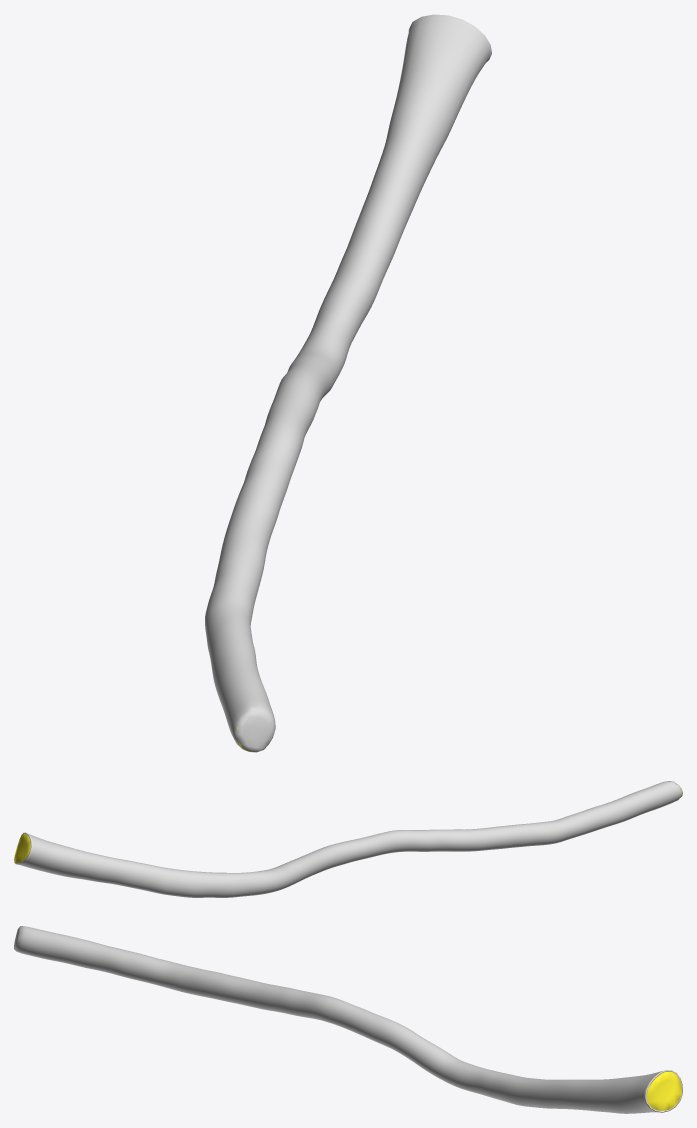
The model's file is VH_F_Nerves_Eye_R.glb.
3 renders of one model, top to bottom at view 1: azimuth 30°, elevation 25°; view 2: azimuth 150°, elevation 25°; view 3: azimuth 270°, elevation 25°, orthographic. The views are drawn at different scales.
Visible parts, largest first — view 1: VH_F_dura_mater_right; view 2: VH_F_dura_mater_right, VH_F_right_optic_nerve; view 3: VH_F_dura_mater_right, VH_F_right_optic_nerve.
Boxes of the visible parts, x1,y1,x2,y2 form: VH_F_dura_mater_right: (205, 14, 491, 752); VH_F_dura_mater_right: (14, 781, 682, 897); VH_F_right_optic_nerve: (14, 788, 682, 862); VH_F_dura_mater_right: (14, 926, 682, 1113); VH_F_right_optic_nerve: (646, 1071, 681, 1110).
Size of the model in its own units: 0.0337 by 0.00693 by 0.0421.
